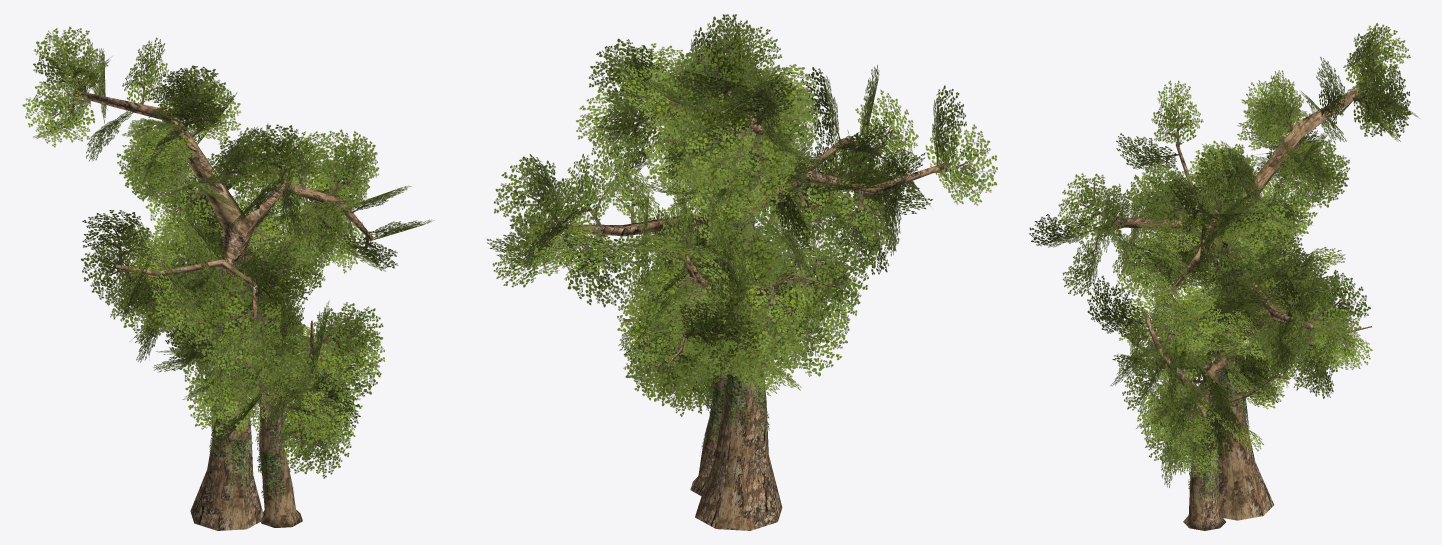
File: tropical-trees.glb
3 views of the same model, side by side, from view 1: azimuth 30°, elevation 25°; view 2: azimuth 150°, elevation 25°; view 3: azimuth 270°, elevation 25° (orthographic). The views are drawn at different scales.
Visible parts, largest first — view 1: TropicalTree_A, TropicalTree_B; view 2: TropicalTree_A, TropicalTree_B; view 3: TropicalTree_A, TropicalTree_B.
Boxes of the visible parts, left/top/right/bottom form: TropicalTree_A: left=22, top=26, right=434, bottom=530; TropicalTree_B: left=123, top=210, right=384, bottom=527; TropicalTree_A: left=487, top=14, right=997, bottom=530; TropicalTree_B: left=601, top=159, right=868, bottom=496; TropicalTree_A: left=1029, top=23, right=1419, bottom=520; TropicalTree_B: left=1087, top=235, right=1371, bottom=530.
Size of the model in its own units: 6.84 by 8.55 by 6.88.
Materials: 3 (3 with a texture image).
